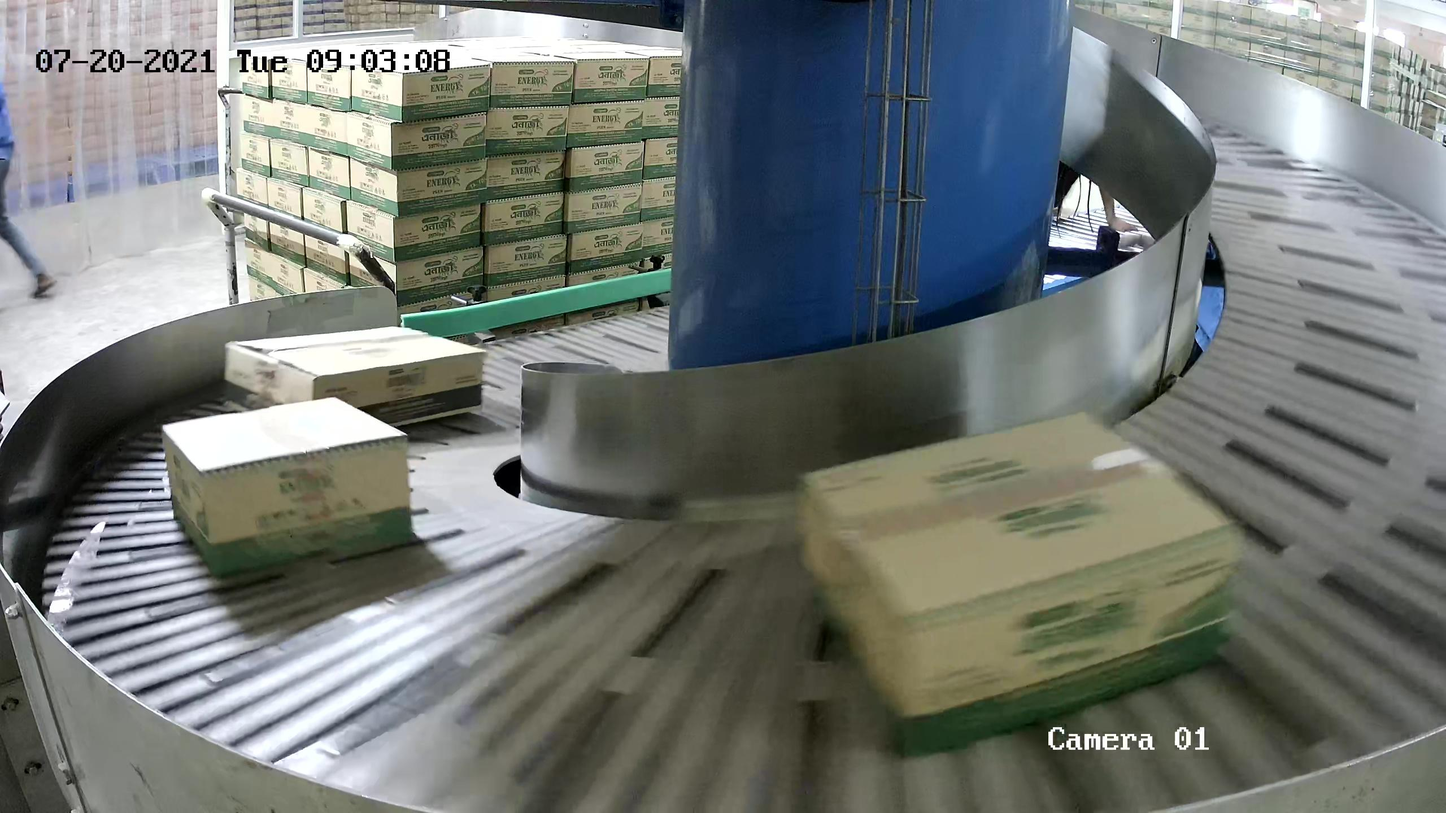Box: (792, 409, 1244, 757), (160, 395, 414, 578), (222, 324, 487, 429)
